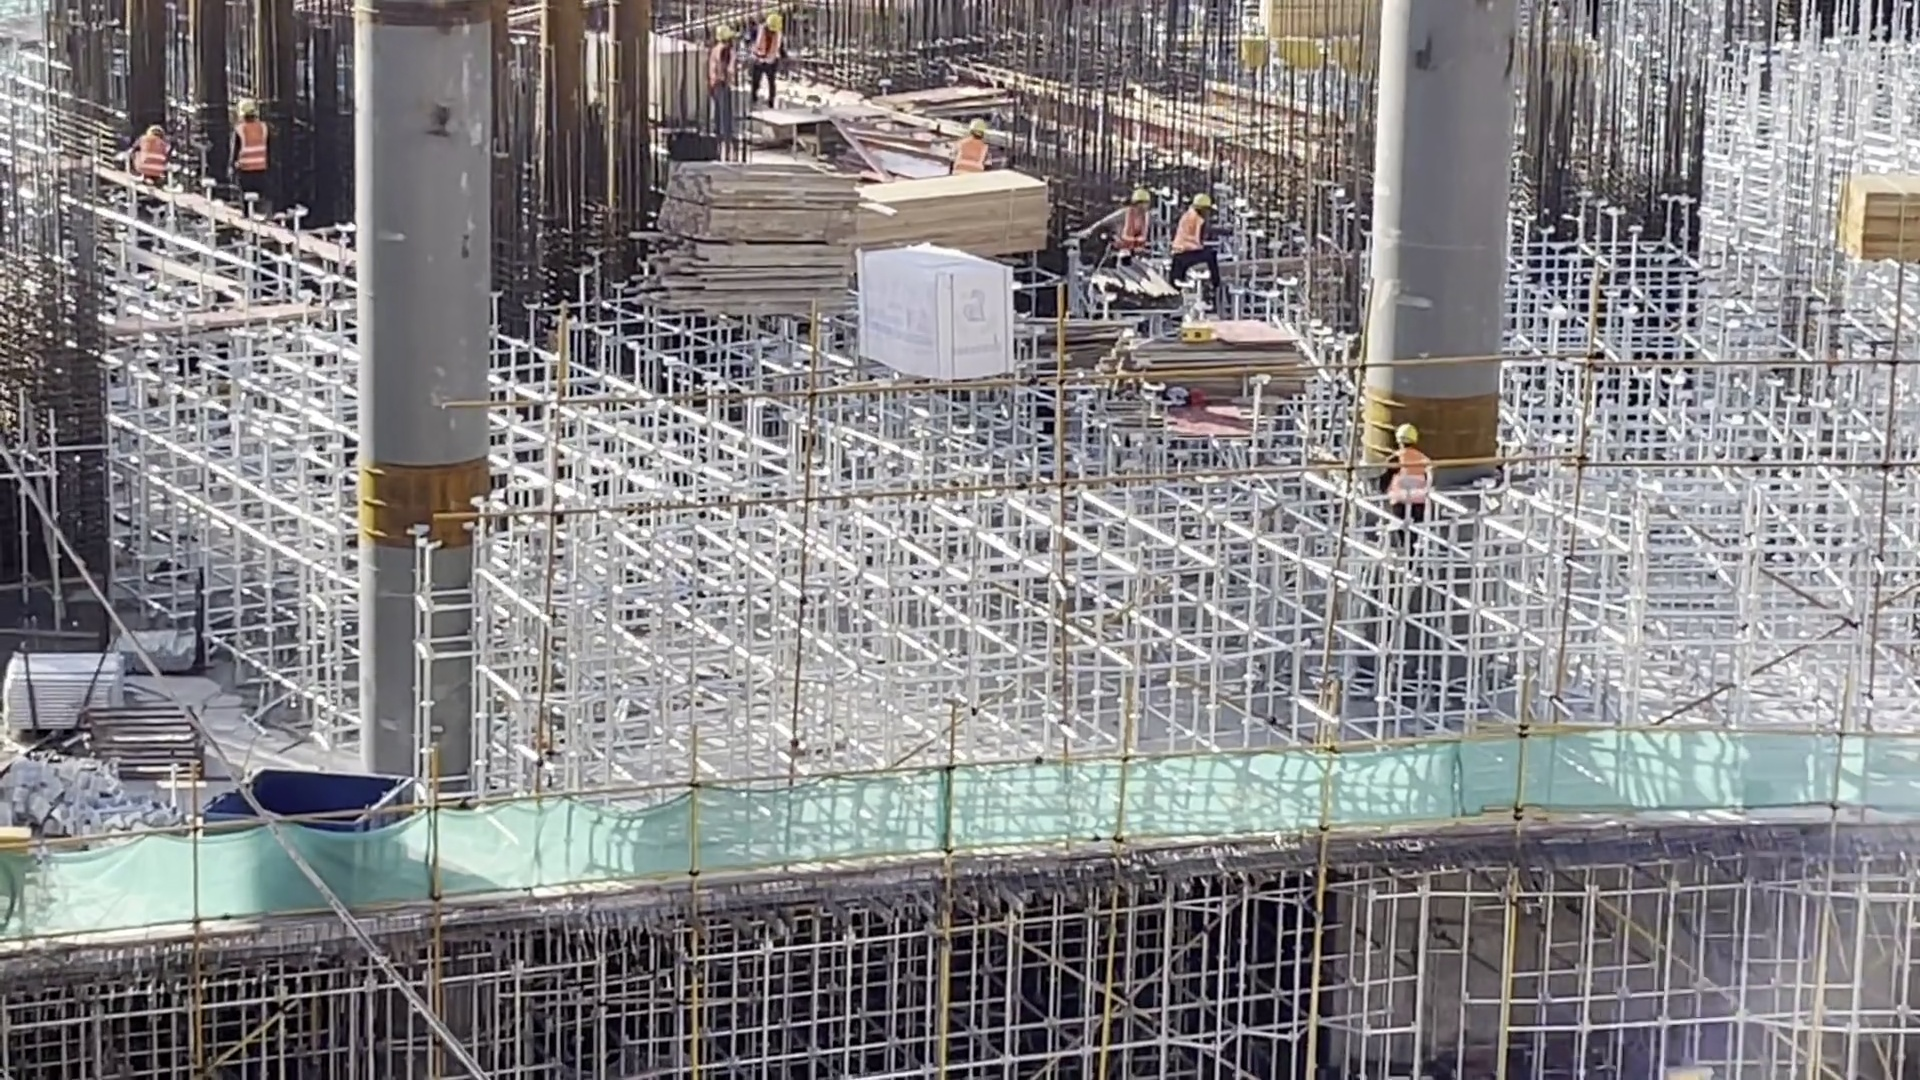board: (1122, 319, 1325, 409)
cutter: (745, 88, 886, 161)
helmet: (1400, 422, 1420, 448), (762, 13, 784, 34), (229, 102, 255, 118), (968, 116, 987, 136), (1133, 187, 1150, 201)
hopper: (202, 760, 418, 833)
person: (1081, 188, 1151, 269), (1167, 200, 1219, 296), (226, 97, 266, 208), (1385, 431, 1435, 521), (707, 33, 741, 154), (748, 10, 787, 102), (126, 128, 169, 199), (954, 114, 990, 178)
vest: (1388, 454, 1427, 505), (236, 130, 270, 180), (1176, 215, 1206, 267), (1116, 215, 1144, 268), (133, 143, 163, 177), (956, 138, 985, 174), (753, 30, 780, 66)
wood: (646, 163, 854, 343), (856, 170, 1052, 266), (1837, 179, 1920, 282), (1251, 1, 1386, 61)
